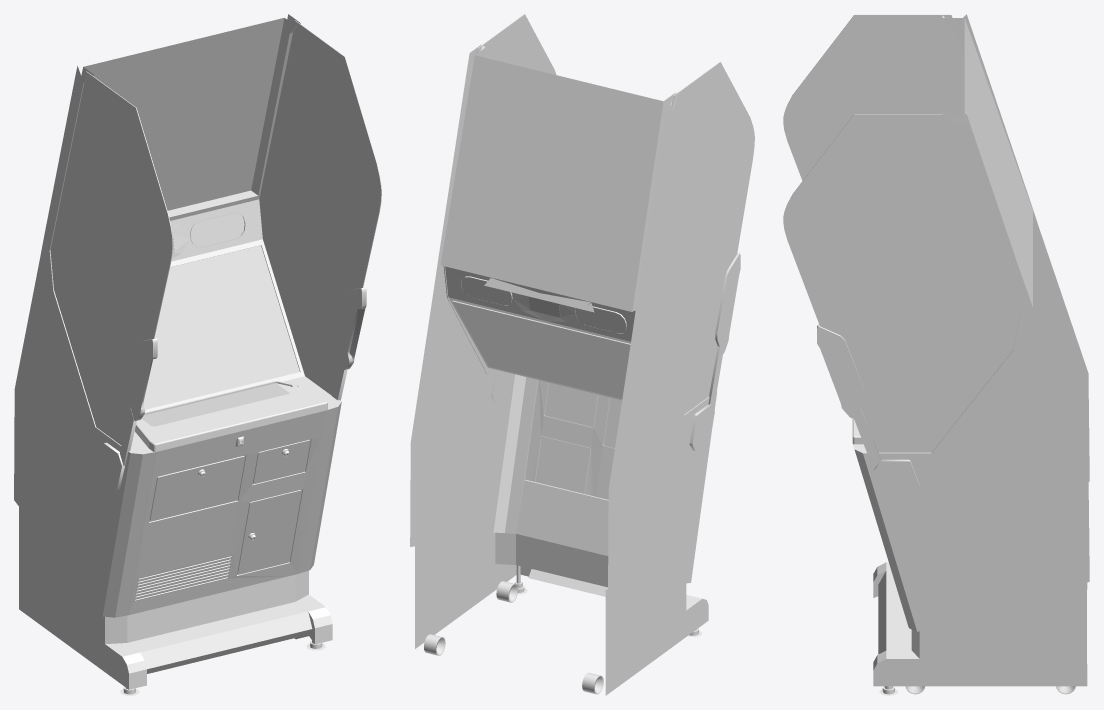
The model's file is ChCab.glb.
The picture shows the model from 3 angles, left to right: view 1: azimuth 30°, elevation 25°; view 2: azimuth 150°, elevation 25°; view 3: azimuth 270°, elevation 25°; orthographic projection. The views are drawn at different scales.
Parts seen in each view (by area): view 1: Cab, CabGlass, CabDisplay, CabGlassEdgesBackup, CabAirSensors, CabGroundSensor, SidePanel; view 2: Cab, CabGlass, CabDisplay, CabGlassEdgesBackup, SidePanel, CabAirSensors, CabWheels; view 3: Cab, CabGlass, CabGlassEdgesBackup, CabAirSensors, SidePanel.
Boxes of the visible parts, <box> form: Cab: <box>14,14,341,689</box>; CabGlass: <box>54,32,381,438</box>; CabDisplay: <box>143,245,299,409</box>; CabGlassEdgesBackup: <box>50,20,350,445</box>; CabAirSensors: <box>128,287,366,421</box>; CabGroundSensor: <box>141,383,289,426</box>; SidePanel: <box>98,360,347,489</box>; Cab: <box>410,44,717,695</box>; CabGlass: <box>482,24,754,408</box>; CabDisplay: <box>452,301,630,398</box>; CabGlassEdgesBackup: <box>444,14,725,414</box>; SidePanel: <box>491,346,722,451</box>; CabAirSensors: <box>715,253,740,353</box>; CabWheels: <box>424,581,603,694</box>; Cab: <box>852,14,1089,686</box>; CabGlass: <box>783,22,1013,447</box>; CabGlassEdgesBackup: <box>843,14,1020,452</box>; CabAirSensors: <box>817,324,865,418</box>; SidePanel: <box>854,408,920,497</box>.
Size of the model in its own units: 2.53 by 6.68 by 3.18.
8 materials, 1 textured.
